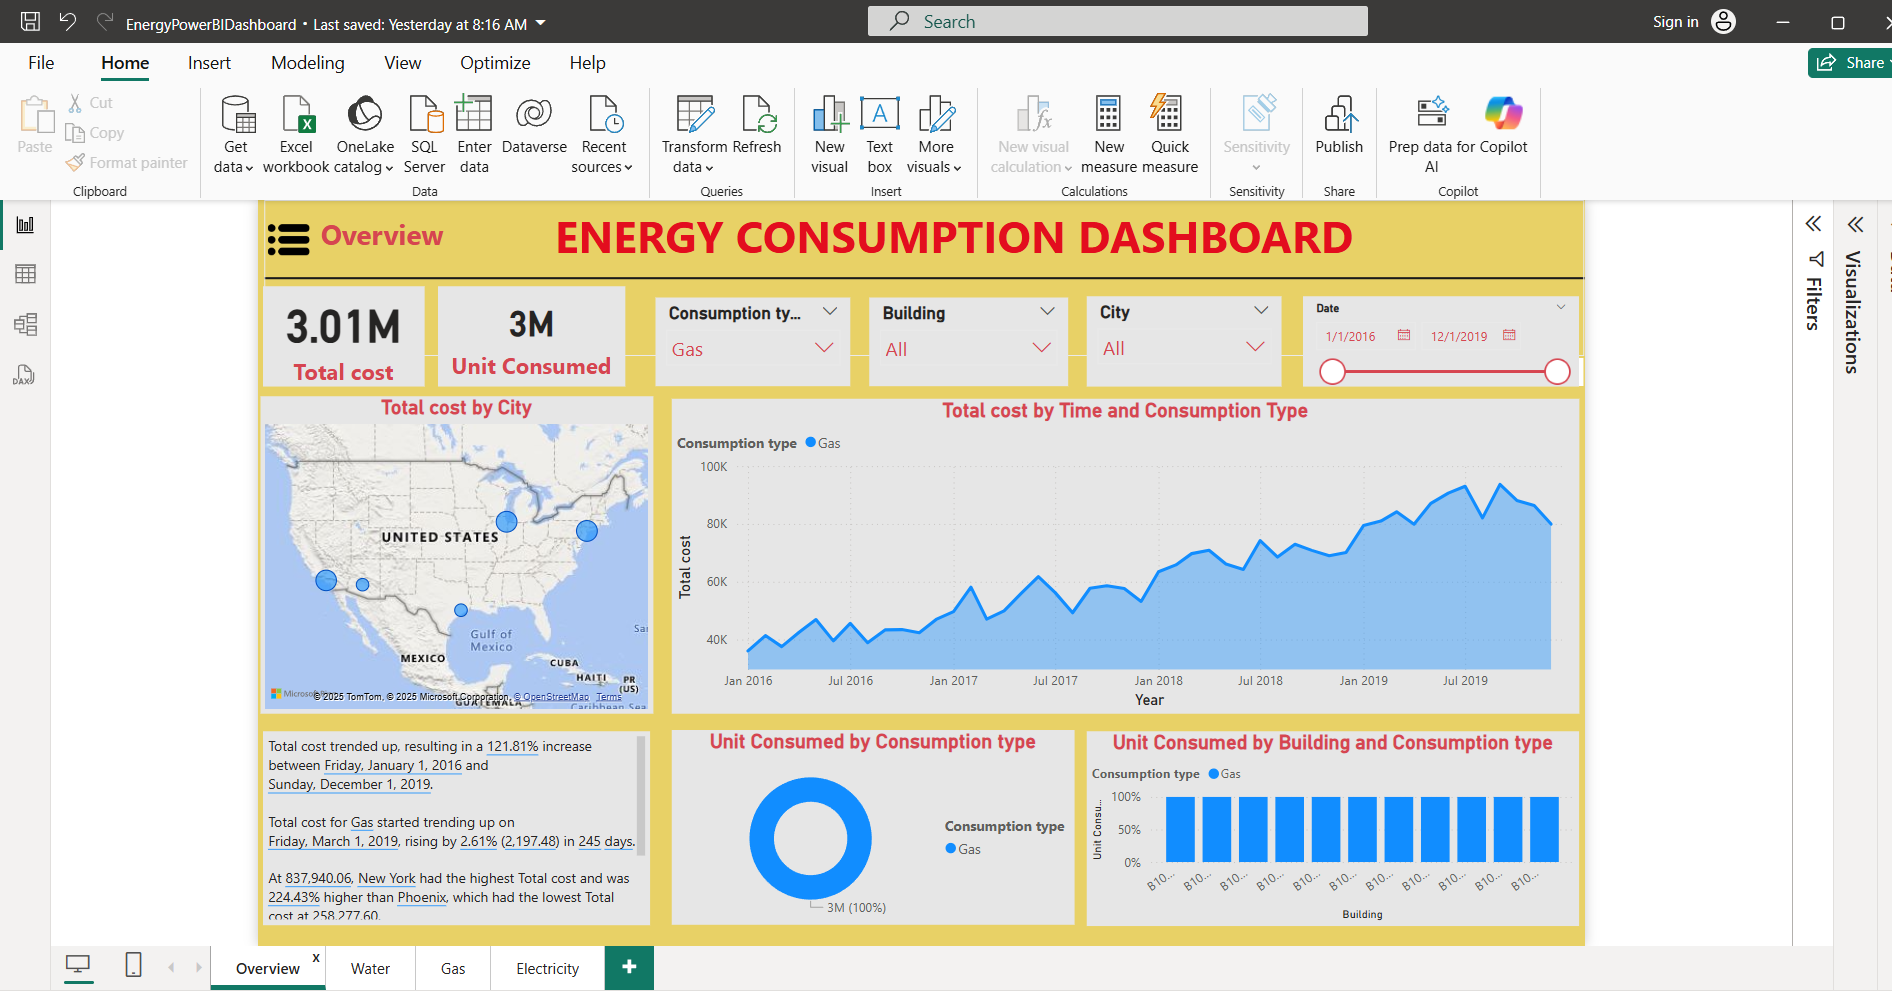

What the dashboard file says about the page in this screenshot:
{"tool":"powerbi","page":{"name":"Overview","canvas":[1280,720],"ordinal":0},"visuals":[{"type":"textbox","box":[11.3,0,1268.7,101.6],"z":0},{"type":"shape","box":[0,0,1275.2,150.8],"z":1000},{"type":"textbox","box":[55.5,9.7,135.1,49.5],"z":2000},{"type":"image","box":[4.8,0,49.5,76],"z":3000},{"type":"card","fields":{"Values":["Energy Consumptions.Total cost"]},"box":[4.8,83.2,155.6,96.5],"z":4000},{"type":"card","fields":{"Values":["Energy Consumptions.Unit Consumed"]},"box":[173.7,83.2,181,96.5],"z":5000},{"type":"slicer","fields":{"Values":["Energy Consumptions.Consumption type"]},"box":[383.6,94.1,188.2,85.7],"z":6000},{"type":"slicer","fields":{"Values":["Energy Consumptions.Building"]},"box":[589.9,94.1,191.8,85.7],"z":7000},{"type":"slicer","fields":{"Values":["Building Master.City"]},"box":[799.9,92.9,188.2,86.9],"z":8000},{"type":"slicer","fields":{"Values":["Energy Consumptions.Date"]},"box":[1008.6,92.9,266.6,86.9],"z":9000},{"type":"donutChart","fields":{"Y":["Energy Consumptions.Unit Consumed"],"Category":["Energy Consumptions.Consumption type"]},"box":[399.3,511.5,388.5,188.2],"z":10000},{"type":"areaChart","title":"Total cost by Time and Consumption Type","fields":{"Category":["Energy Consumptions.Date.Variation.Date Hierarchy.Year","Energy Consumptions.Date.Variation.Date Hierarchy.Quarter","Energy Consumptions.Date.Variation.Date Hierarchy.Month","Energy Consumptions.Date.Variation.Date Hierarchy.Day"],"Y":["Energy Consumptions.Total cost"],"Series":["Energy Consumptions.Consumption type"]},"box":[399.3,191.8,875.9,304],"z":11000},{"type":"textbox","box":[4.8,512.7,374,187],"z":12000},{"type":"map","fields":{"Category":["Building Master.City"],"Size":["Energy Consumptions.Total cost"]},"box":[2.4,189.4,378.8,306.4],"z":13000},{"type":"hundredPercentStackedColumnChart","fields":{"Y":["Energy Consumptions.Unit Consumed"],"Category":["Energy Consumptions.Building"],"Series":["Energy Consumptions.Consumption type"]},"box":[799.9,512.7,475.3,188.2],"z":14000}]}

Visuals, with their boxes on the page's 1280x720 design canvas (x1, y1, x2, y2). These are canvas units, not pixel positions in the 1892x991 screenshot, which may show the page scaled, cropped or inside an application window:
textbox: 11/0/1280/102
shape: 0/0/1275/151
textbox: 56/10/191/59
image: 5/0/54/76
card - Energy Consumptions.Total cost: 5/83/160/180
card - Energy Consumptions.Unit Consumed: 174/83/355/180
slicer - Energy Consumptions.Consumption type: 384/94/572/180
slicer - Energy Consumptions.Building: 590/94/782/180
slicer - Building Master.City: 800/93/988/180
slicer - Energy Consumptions.Date: 1009/93/1275/180
donutChart - Energy Consumptions.Unit Consumed x Energy Consumptions.Consumption type: 399/512/788/700
"Total cost by Time and Consumption Type" areaChart: 399/192/1275/496
textbox: 5/513/379/700
map - Building Master.City x Energy Consumptions.Total cost: 2/189/381/496
hundredPercentStackedColumnChart - Energy Consumptions.Unit Consumed x Energy Consumptions.Building: 800/513/1275/701
